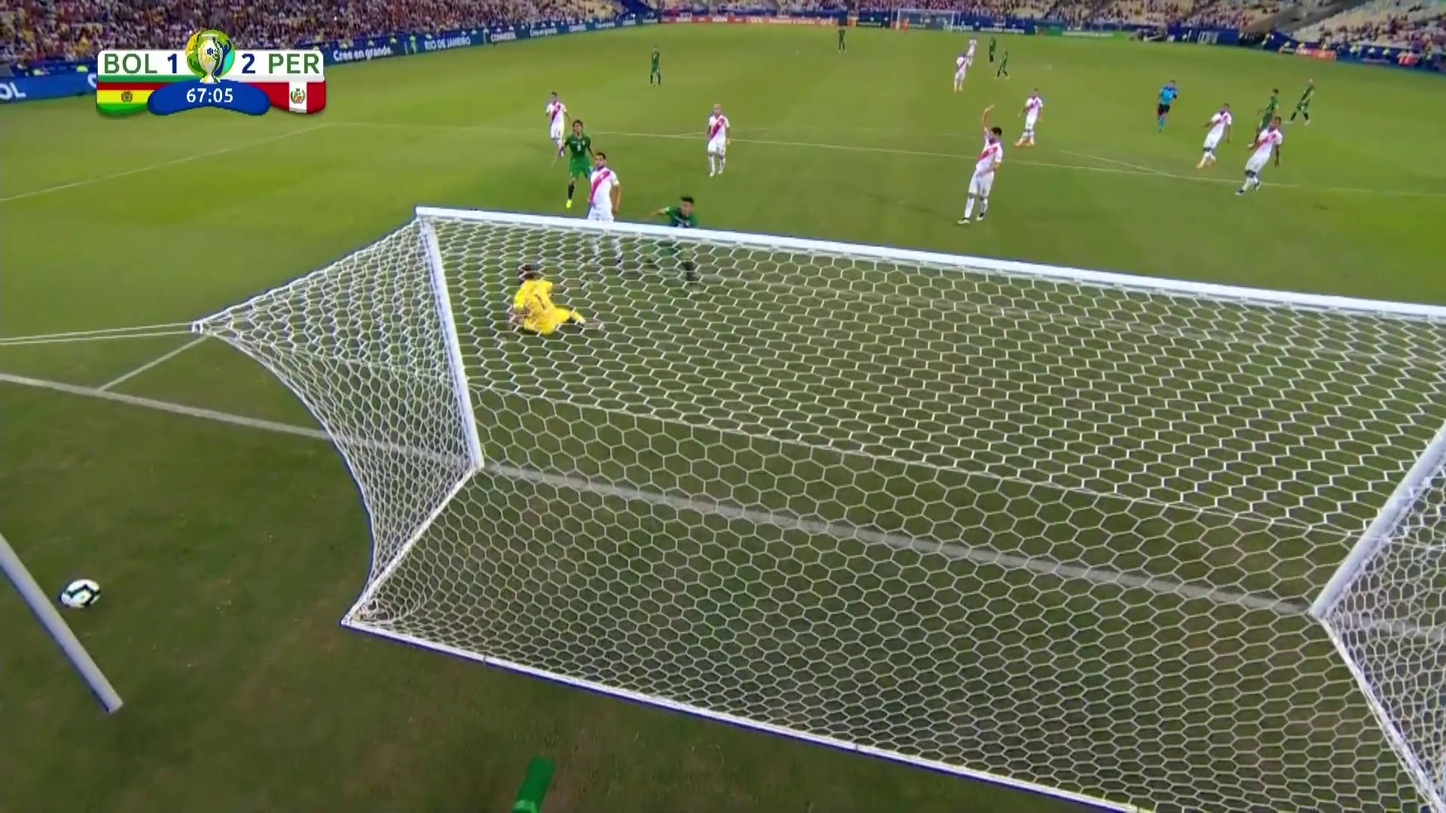ball: (55, 576, 107, 615)
player: (502, 267, 592, 357), (958, 105, 1007, 225), (648, 189, 705, 286), (581, 150, 622, 268), (1236, 115, 1286, 195), (559, 119, 595, 209), (1194, 103, 1234, 170), (704, 104, 731, 176), (1015, 88, 1046, 148), (1253, 88, 1285, 146), (545, 91, 570, 158), (1287, 76, 1319, 126), (951, 50, 972, 93), (984, 35, 1005, 74), (648, 47, 663, 87), (833, 23, 853, 53), (996, 45, 1013, 80), (965, 31, 981, 60)
referee: (1153, 79, 1181, 132)
